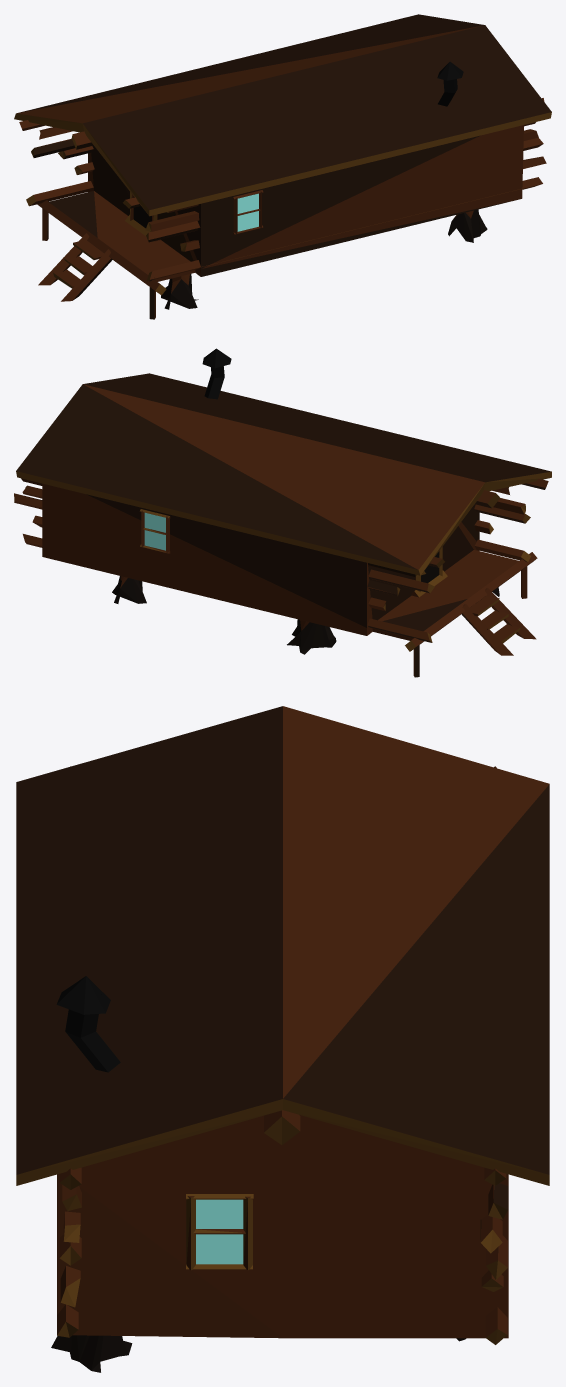
File: House2.FBX
3 views of the same model, one above another, from view 1: azimuth 30°, elevation 25°; view 2: azimuth 150°, elevation 25°; view 3: azimuth 270°, elevation 25° (orthographic). The views are drawn at different scales.
Parts seen in each view (by area): view 1: House2; view 2: House2; view 3: House2.
Boxes of the visible parts, x1,y1,x2,y2 form: House2: (14, 14, 551, 319); House2: (14, 348, 551, 677); House2: (16, 706, 549, 1372).
Size of the model in its own units: 1284 by 484 by 653.
